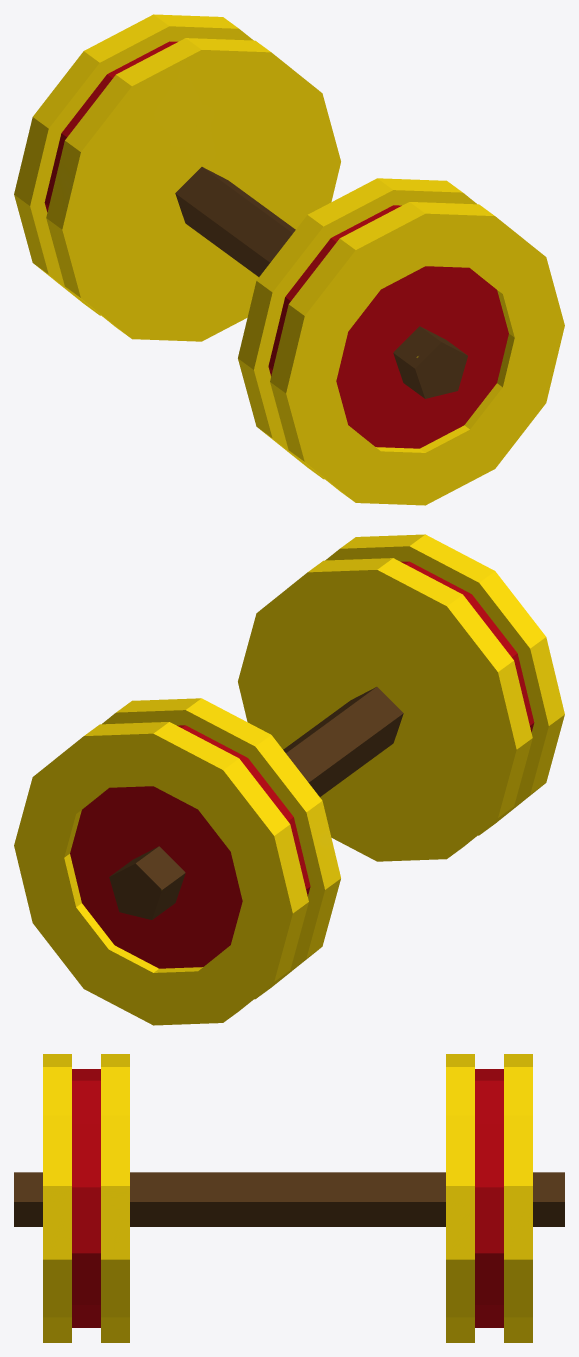
Rendered from Cannon_Wheels.fbx.
3 views of the same model, one above another, from view 1: azimuth 30°, elevation 25°; view 2: azimuth 150°, elevation 25°; view 3: azimuth 270°, elevation 25° (orthographic). The views are drawn at different scales.
Parts seen in each view (by area): view 1: Cannon_Wheels; view 2: Cannon_Wheels; view 3: Cannon_Wheels.
Part boxes in pixels (<box>): Cannon_Wheels: <box>14,14,564,505</box>; Cannon_Wheels: <box>14,534,564,1025</box>; Cannon_Wheels: <box>14,1054,564,1342</box>.
Size of the model in its own units: 355 by 355 by 675.
Materials: 1 (1 with a texture image).
